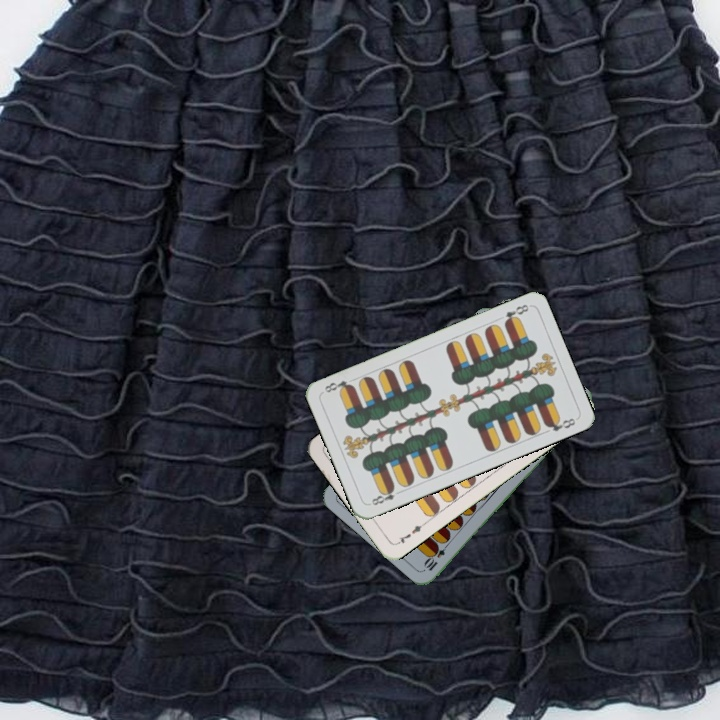E10: (421, 537, 452, 574)
E7: (393, 519, 428, 547)
E8: (368, 483, 405, 508), (500, 300, 531, 327)
